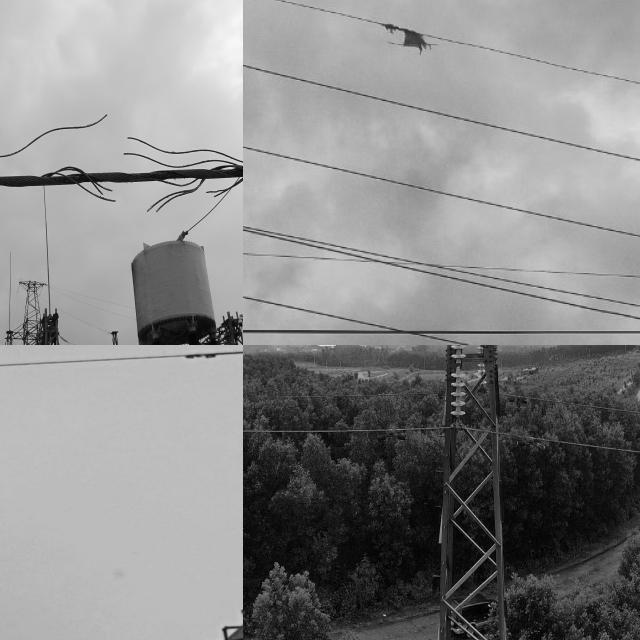杆塔: (422, 345, 521, 640), (155, 345, 243, 640)
植被遮挡: (359, 12, 447, 57)
正常绝缘子: (448, 345, 467, 423)
电缆破损: (0, 106, 243, 209)
绝缘子破损: (455, 360, 462, 370)
